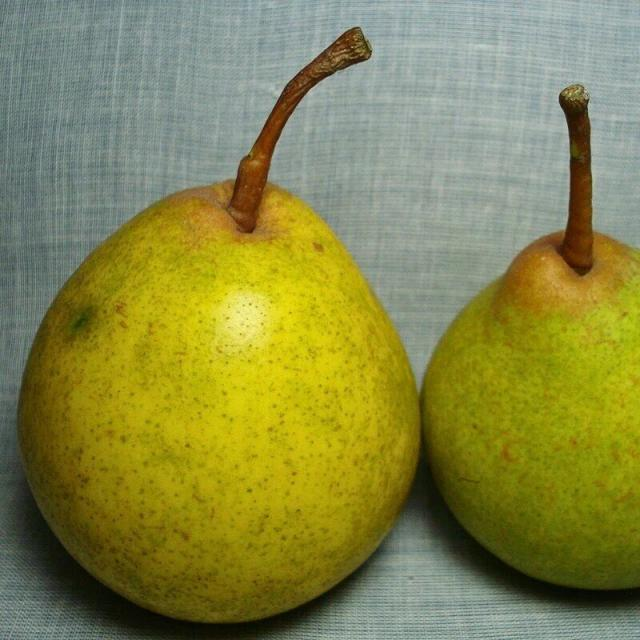pear: (15, 29, 636, 625), (16, 176, 422, 623), (420, 81, 638, 594)
